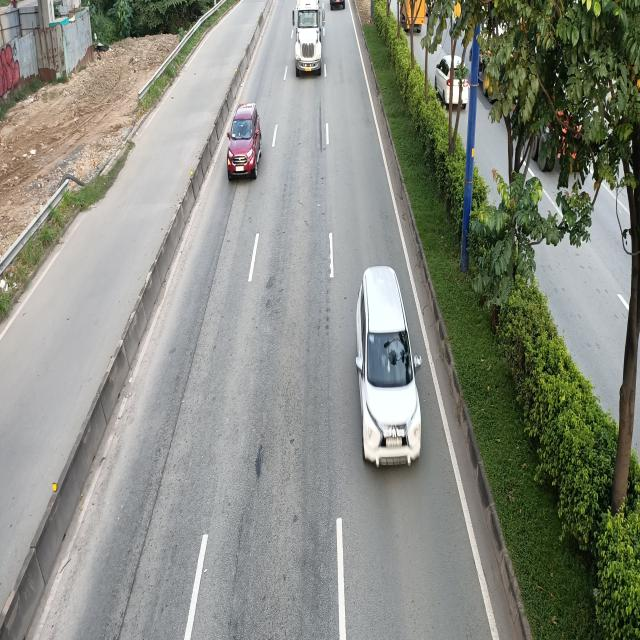car: (352, 267, 421, 466), (224, 104, 260, 180)
container: (293, 2, 324, 78)
